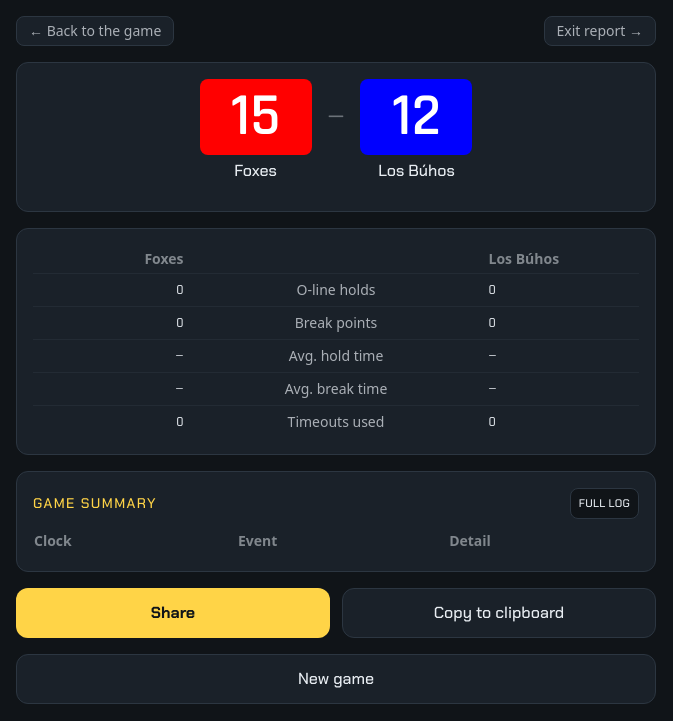
Test case: report screen — share as image › keeps copying the full text, log and all, on the other button
Click the button "Copy to clipboard" at (499, 612), box [342,588,656,638]
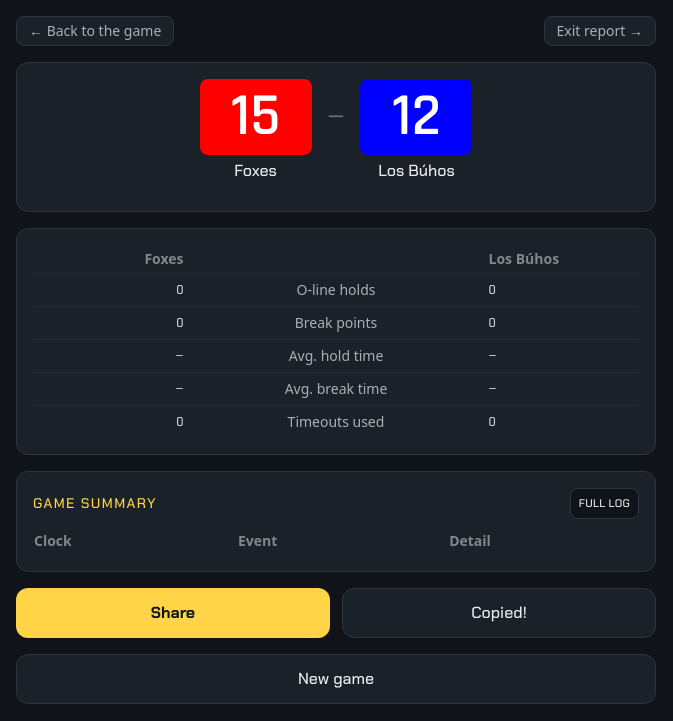
Now the button "Copied!" is shown, box [342,588,656,638]
